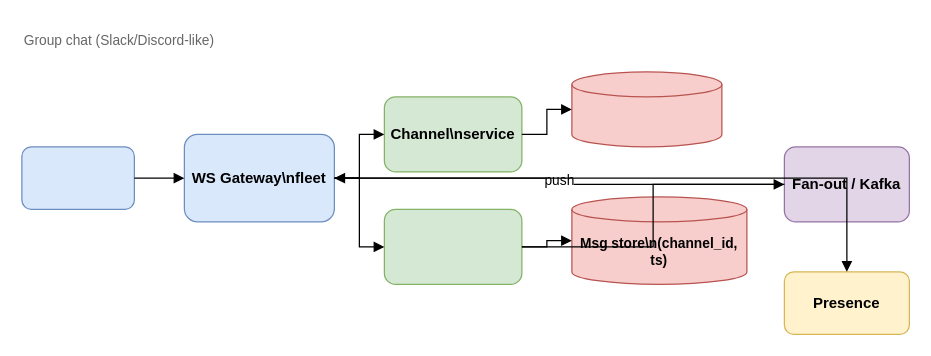
Some shapes in this 931 by 356 pixel diagram are drawn without their labels. The centre of each missing label's shape, as x and y in pixels:
Clients: point 77,177
Membership\n+ roles: point 646,109
Message\nservice: point 452,246
